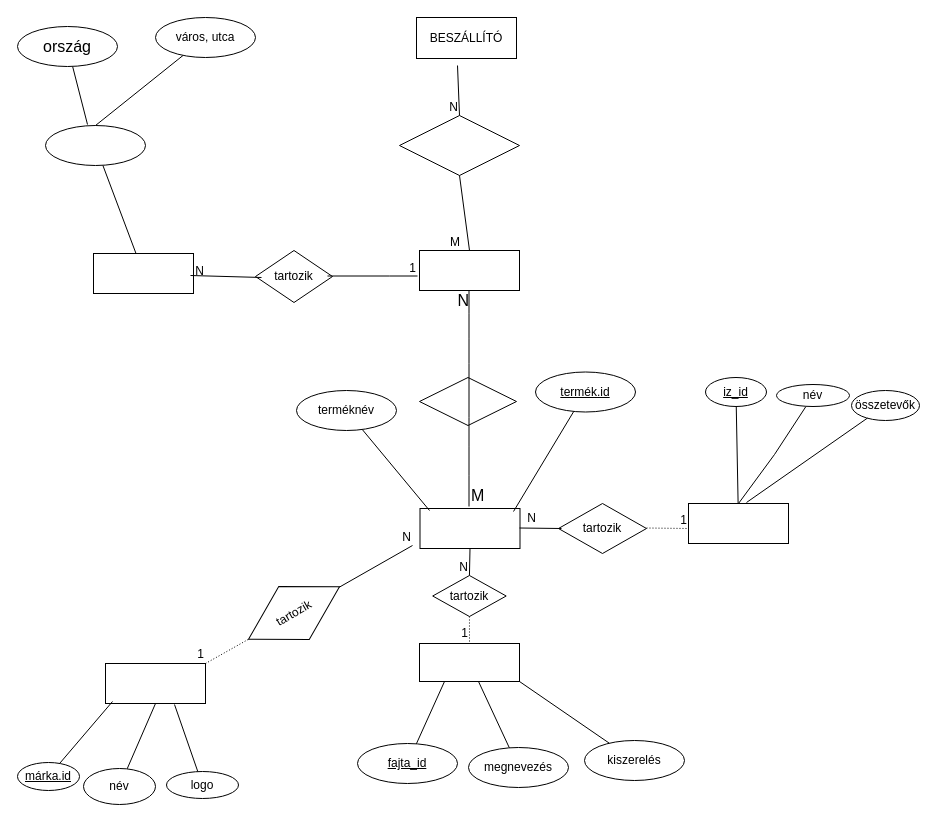
The diagram is 937 pixels wide and 822 high, and some of its shapes have lost their labels. The box of each missing label's shape, as (x1, y1, x2, y2) in pixels:
CSOKI: (419, 508, 520, 548)
CÍM: (44, 124, 146, 166)
FAJTA: (418, 642, 520, 682)
gyártja: (418, 376, 516, 426)
GYÁRTÓ: (418, 250, 520, 290)
MÁRKA: (104, 662, 206, 704)
szállítja: (398, 114, 520, 176)
TELEPHELY: (92, 252, 194, 294)
ÍZESÍTÉS: (688, 502, 788, 544)
